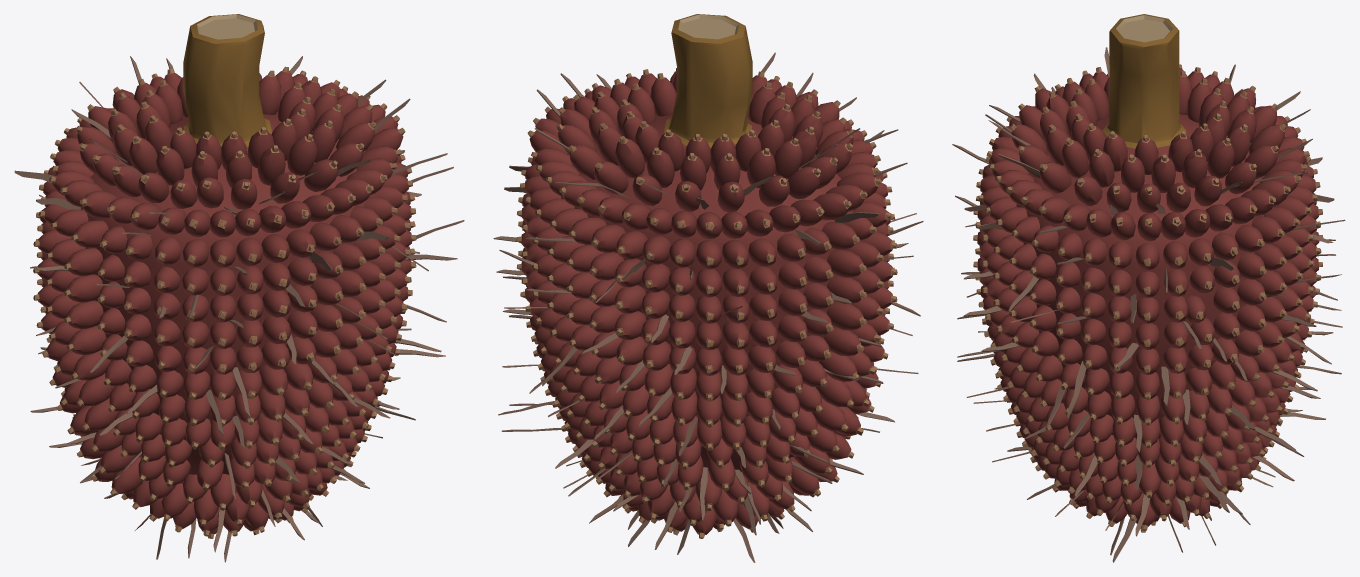
File: Sawit.fbx
The picture shows the model from 3 angles, left to right: view 1: azimuth 30°, elevation 25°; view 2: azimuth 150°, elevation 25°; view 3: azimuth 270°, elevation 25°; orthographic projection. The views are drawn at different scales.
Parts seen in each view (by area): view 1: Cube; view 2: Cube; view 3: Cube.
Boxes of the visible parts, <box> form: Cube: <box>14,14,464,562</box>; Cube: <box>493,14,923,562</box>; Cube: <box>952,14,1345,562</box>.
Bounding box in the file's own units: 50.01 × 61.57 × 44.23.
